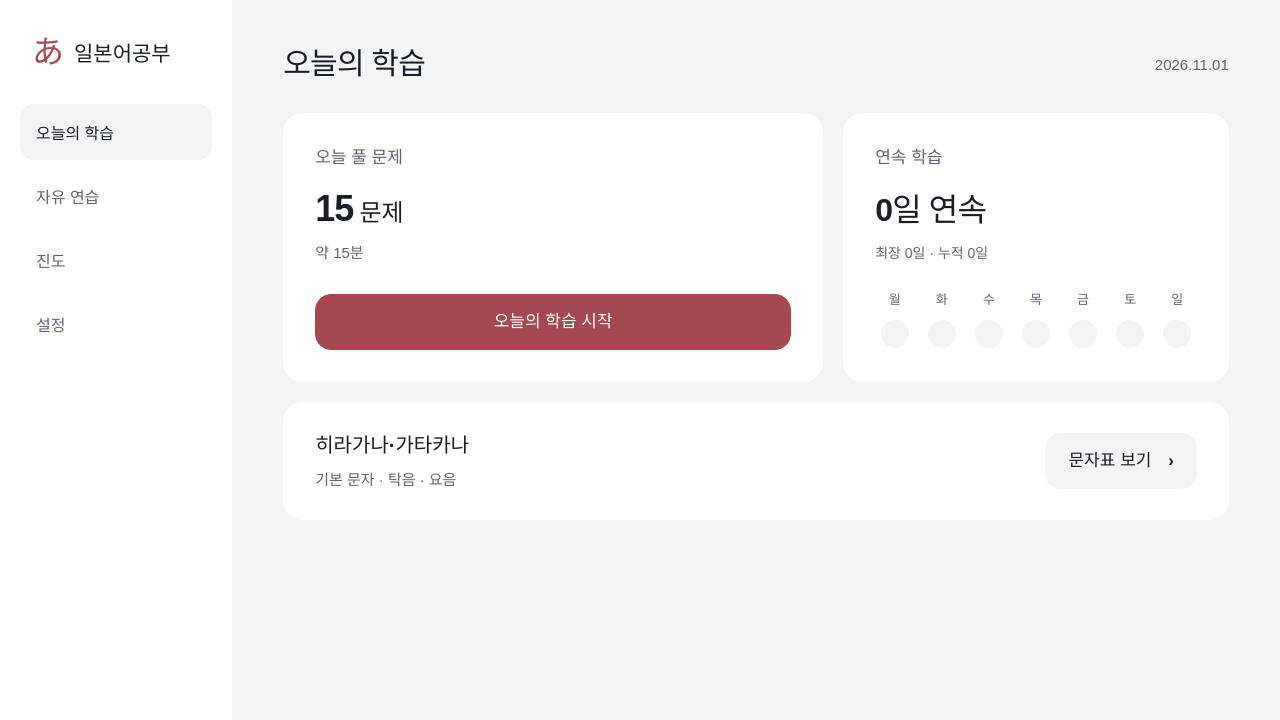
Test case: moves focus to the new page and identifies the active navigation item
Expected: the heading "오늘의 학습" is shown, [283,44,425,84]
Click the button "설정". click: (116, 324)
box: [20,296,212,352]
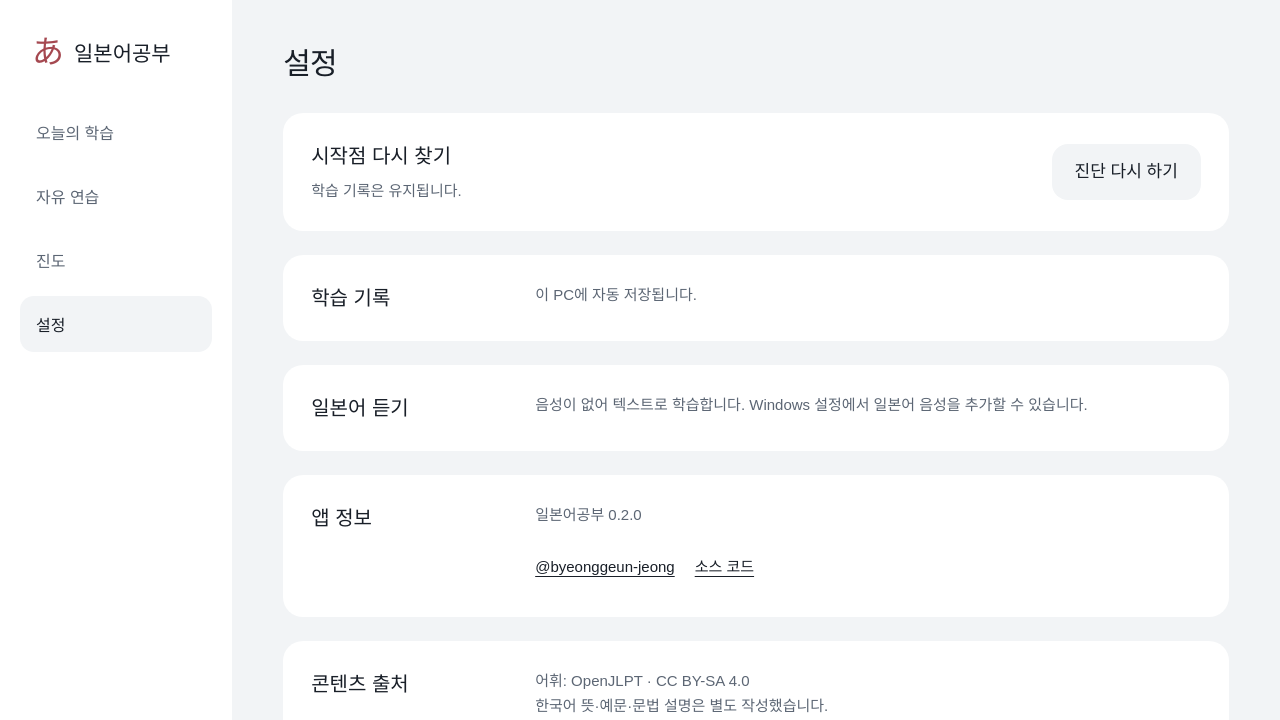
Expected: the button "설정" is marked as current, [20,296,212,352]
